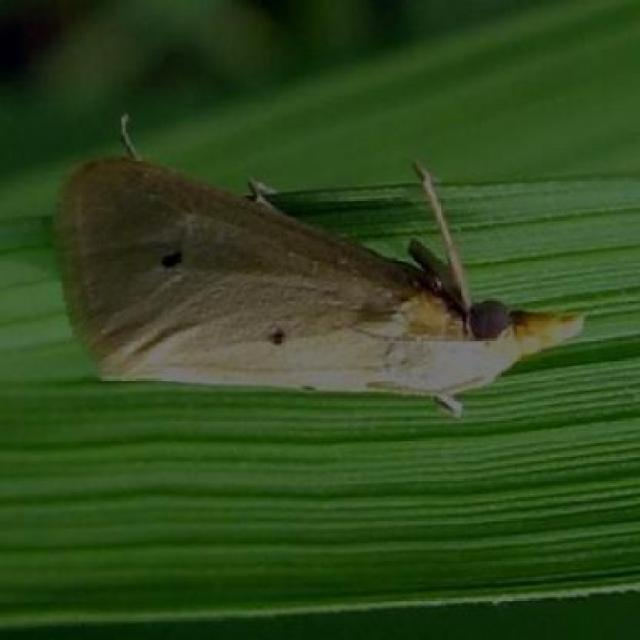stem-borer: (46, 106, 589, 420)
